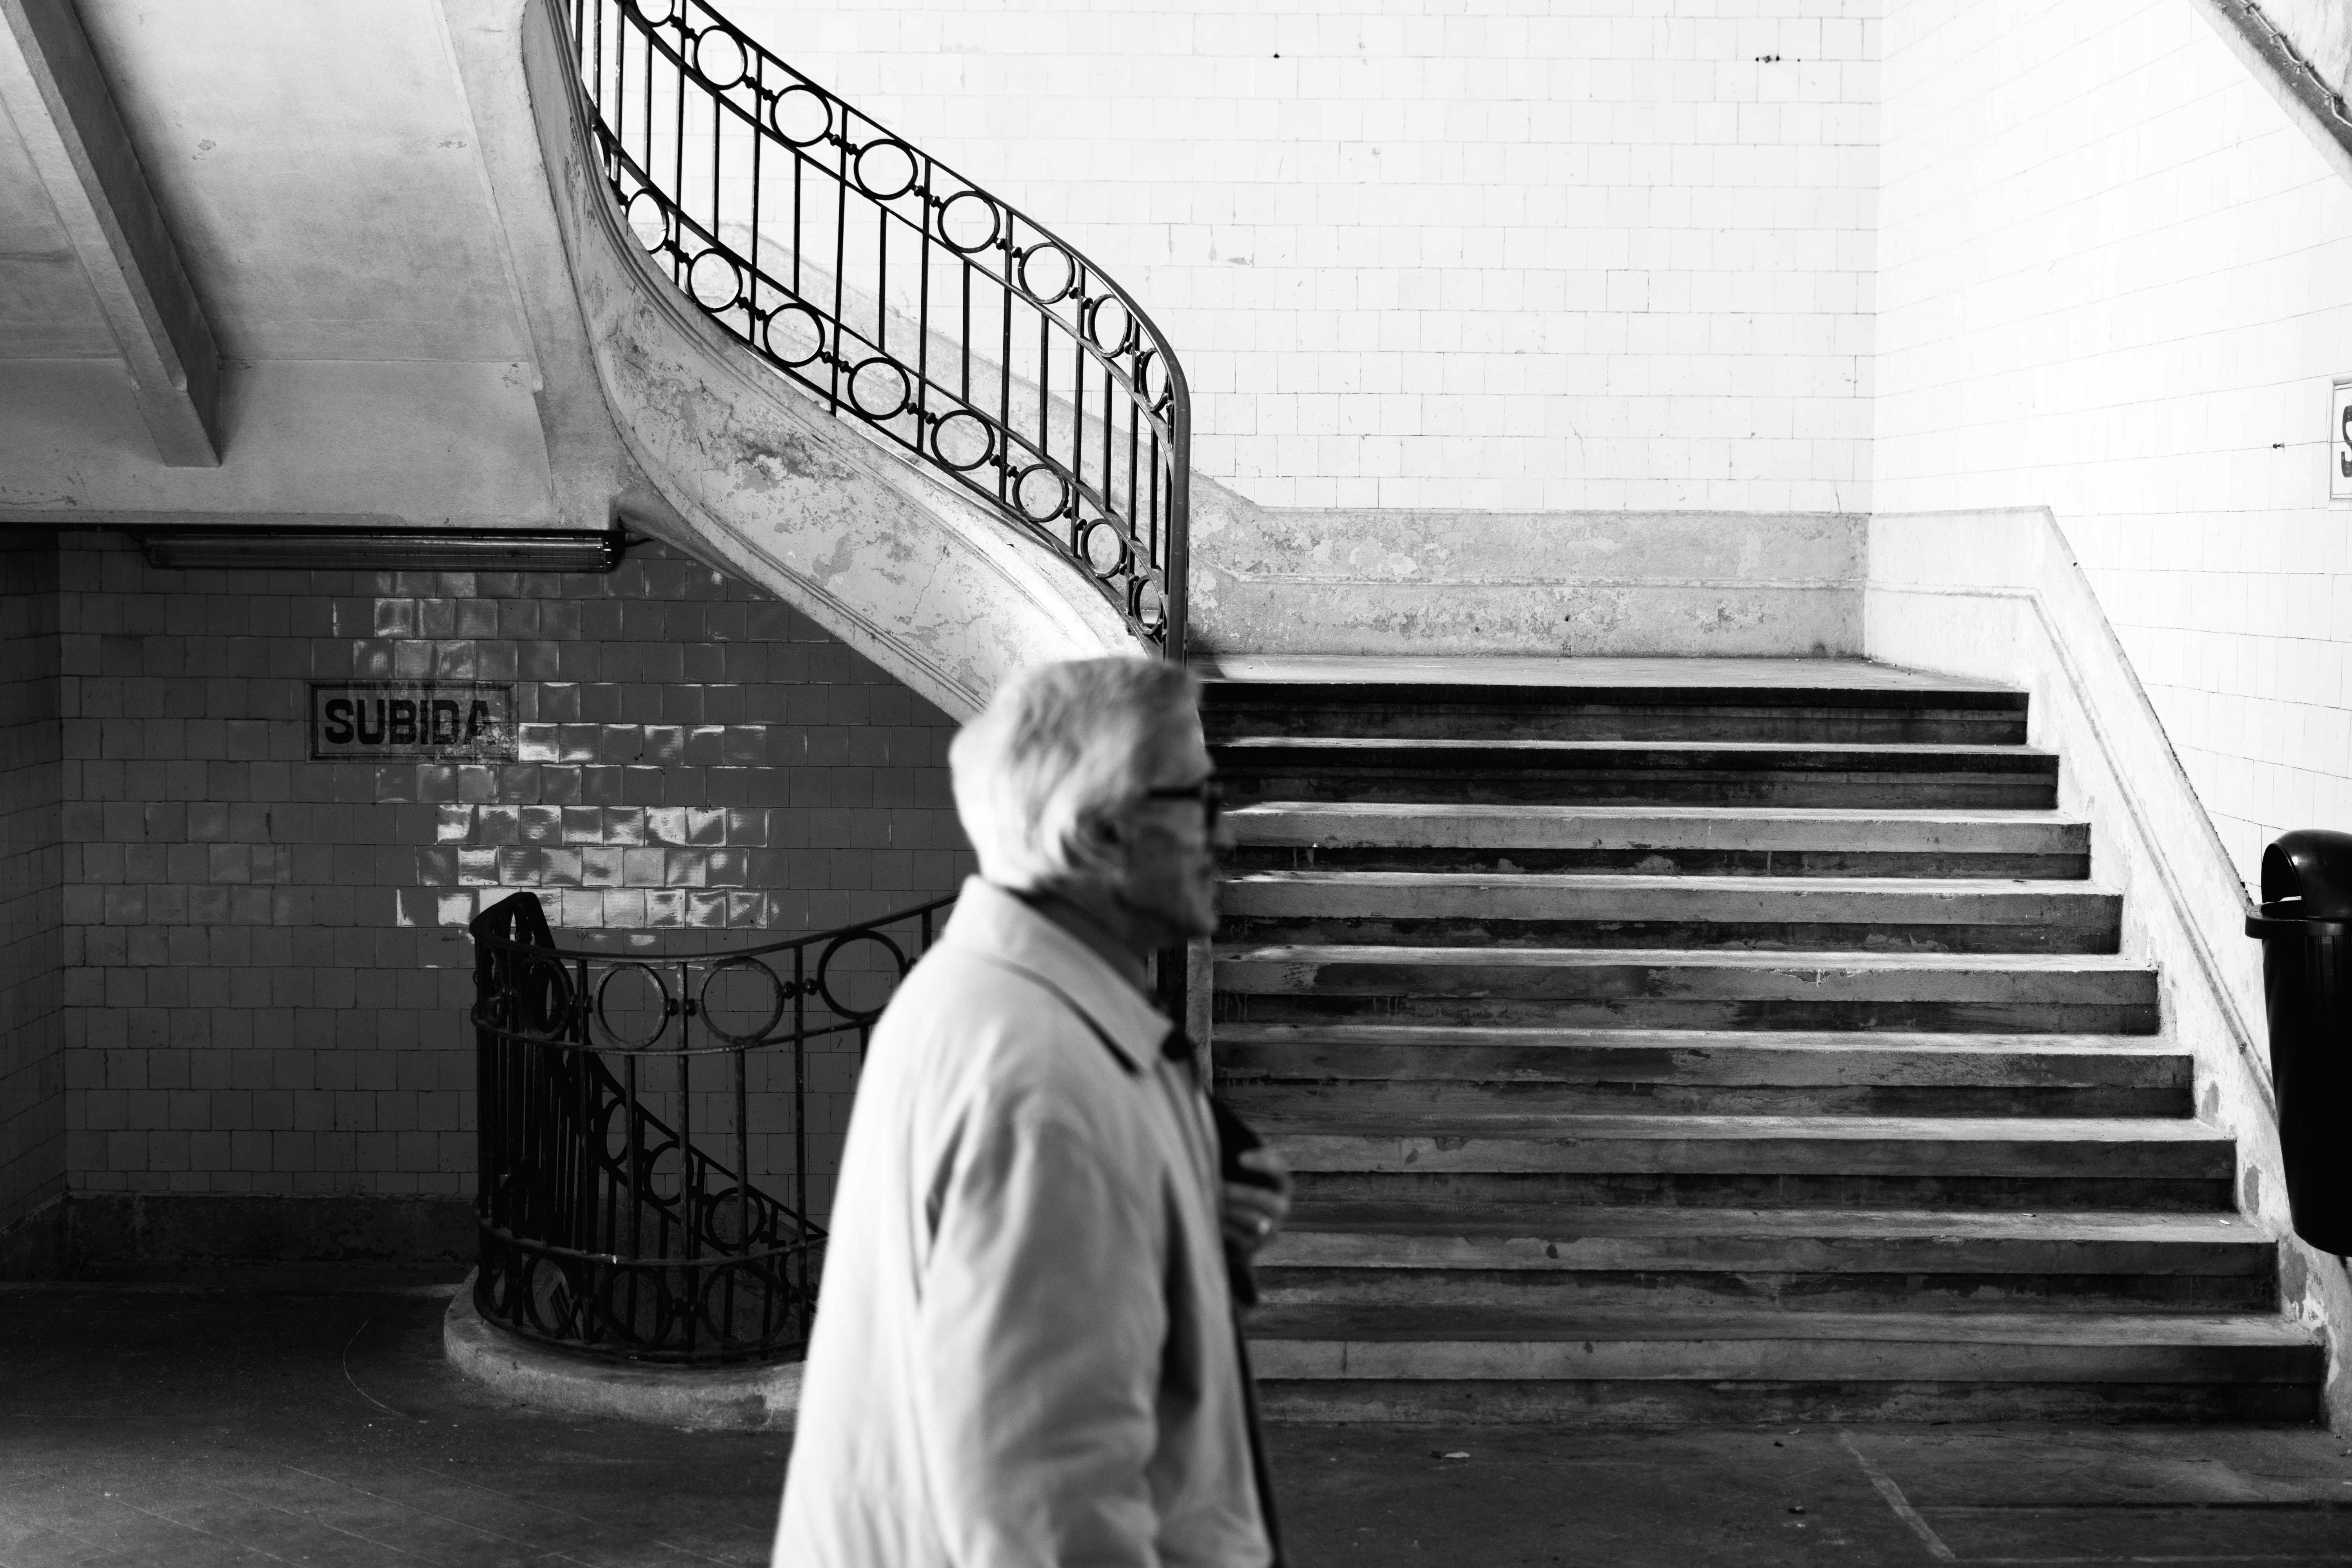upstairs: (1298, 963, 2151, 1493)
